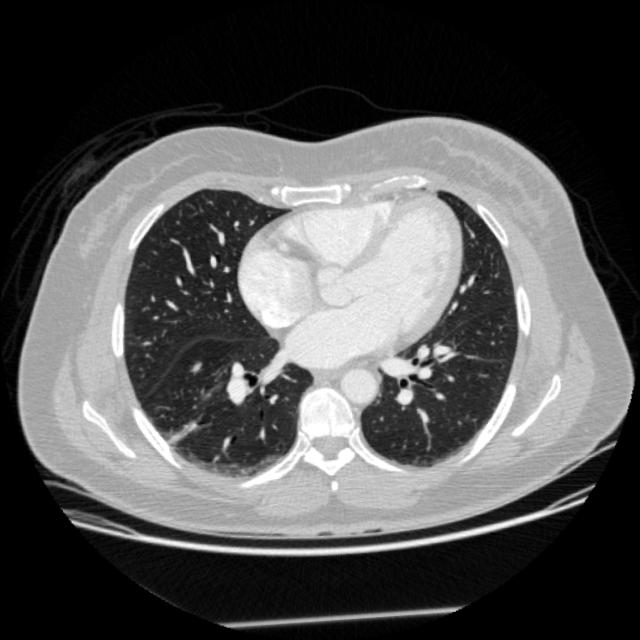nodule: (182, 353, 209, 380)
